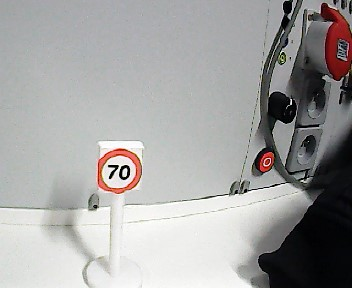70-bord: (97, 149, 142, 192)
